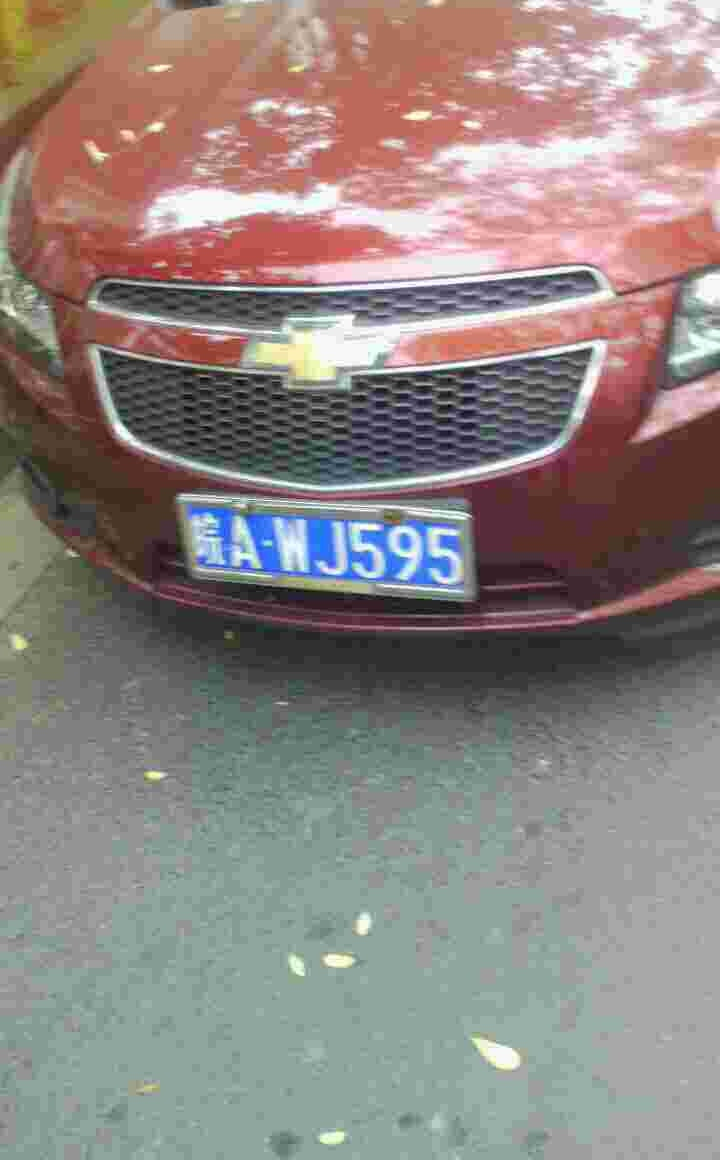license_plate: (185, 498, 470, 584)
